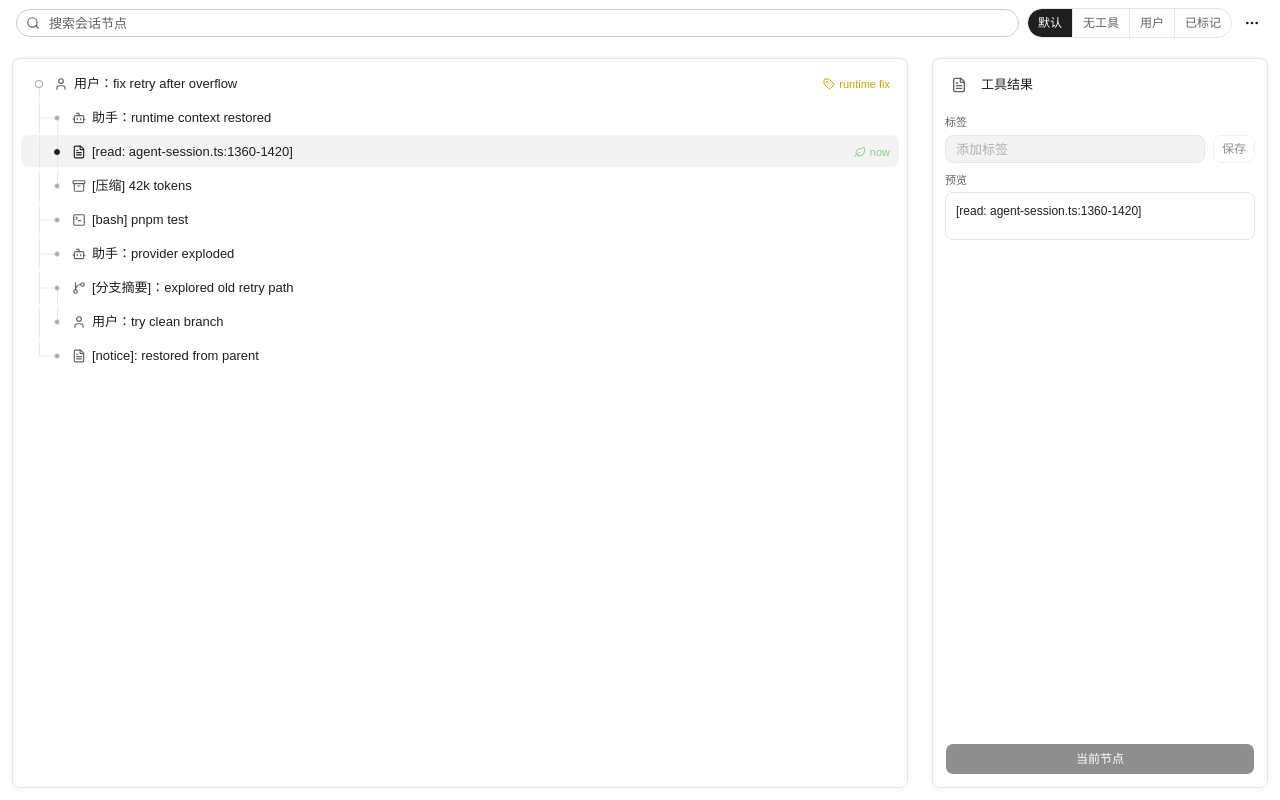
Test: TreeApp › explains a host-projected navigation block without sending a request
This screenshot has width=1280, height=800.
Click the list item "助手：provider exploded" at [144, 254], box 54,246 -> 234,261
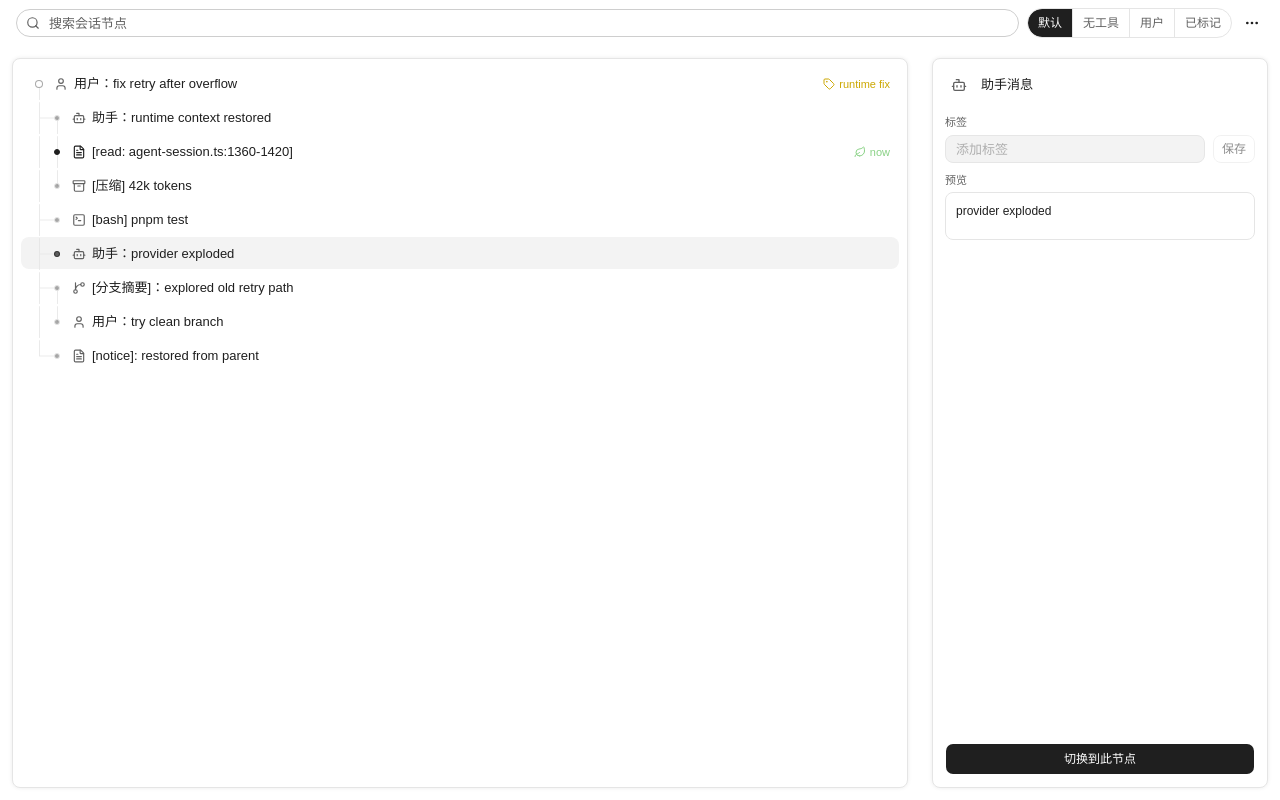
Check: the button "切换到此节点" is enabled
Click the button "切换到此节点" at [1100, 759], box 945,743 -> 1255,775
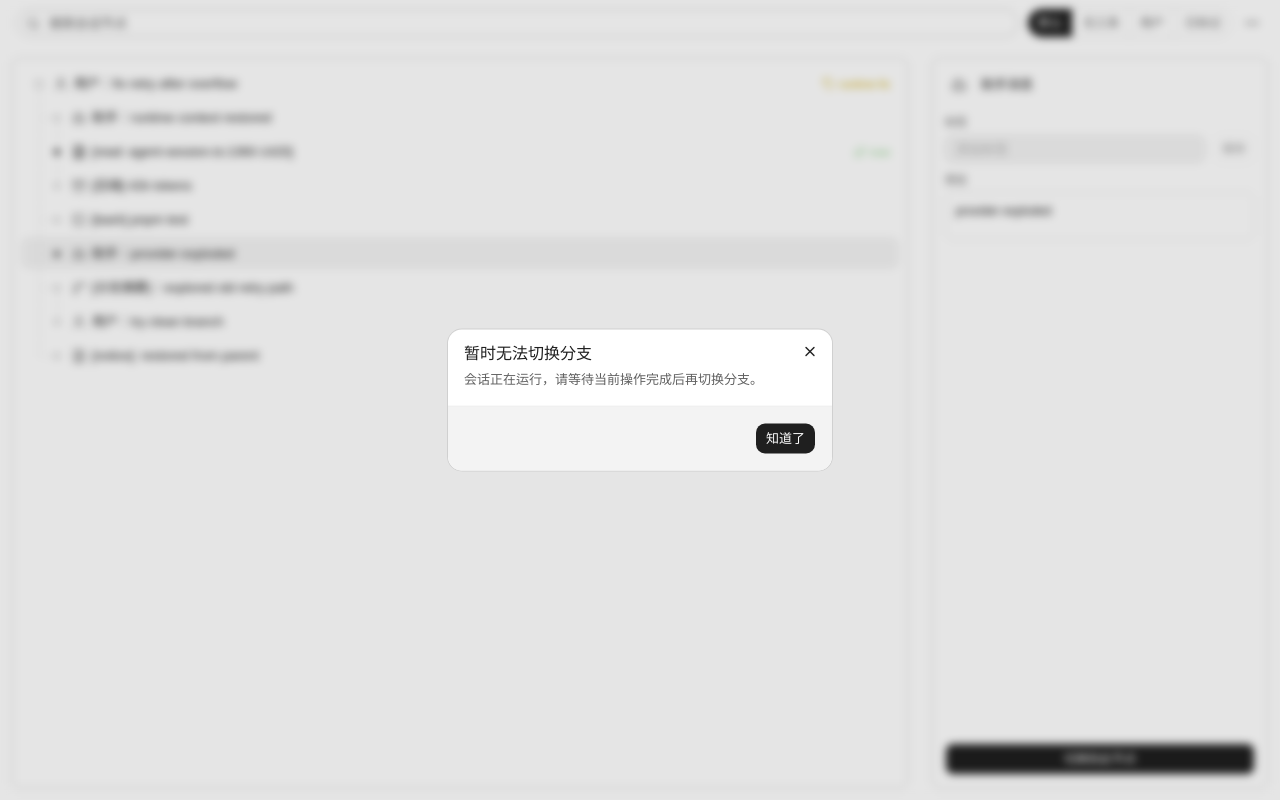
Check: the heading "暂时无法切换分支" is shown, box 464,344 -> 592,362
Check: the text "会话正在运行，请等待当前操作完成后再切换分支。" is shown, box 464,372 -> 763,386
